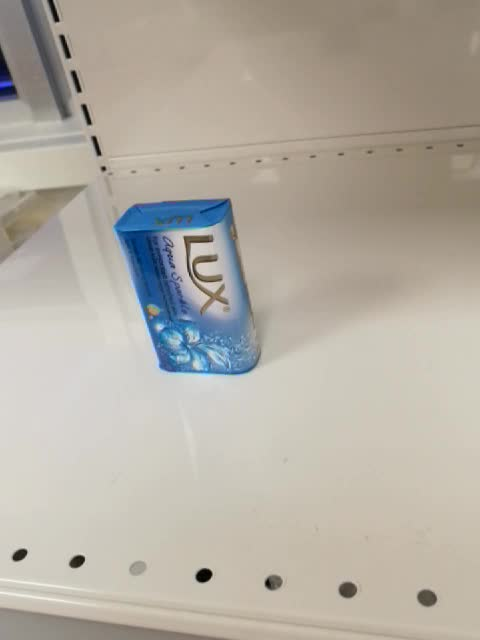soap: (112, 198, 263, 375)
